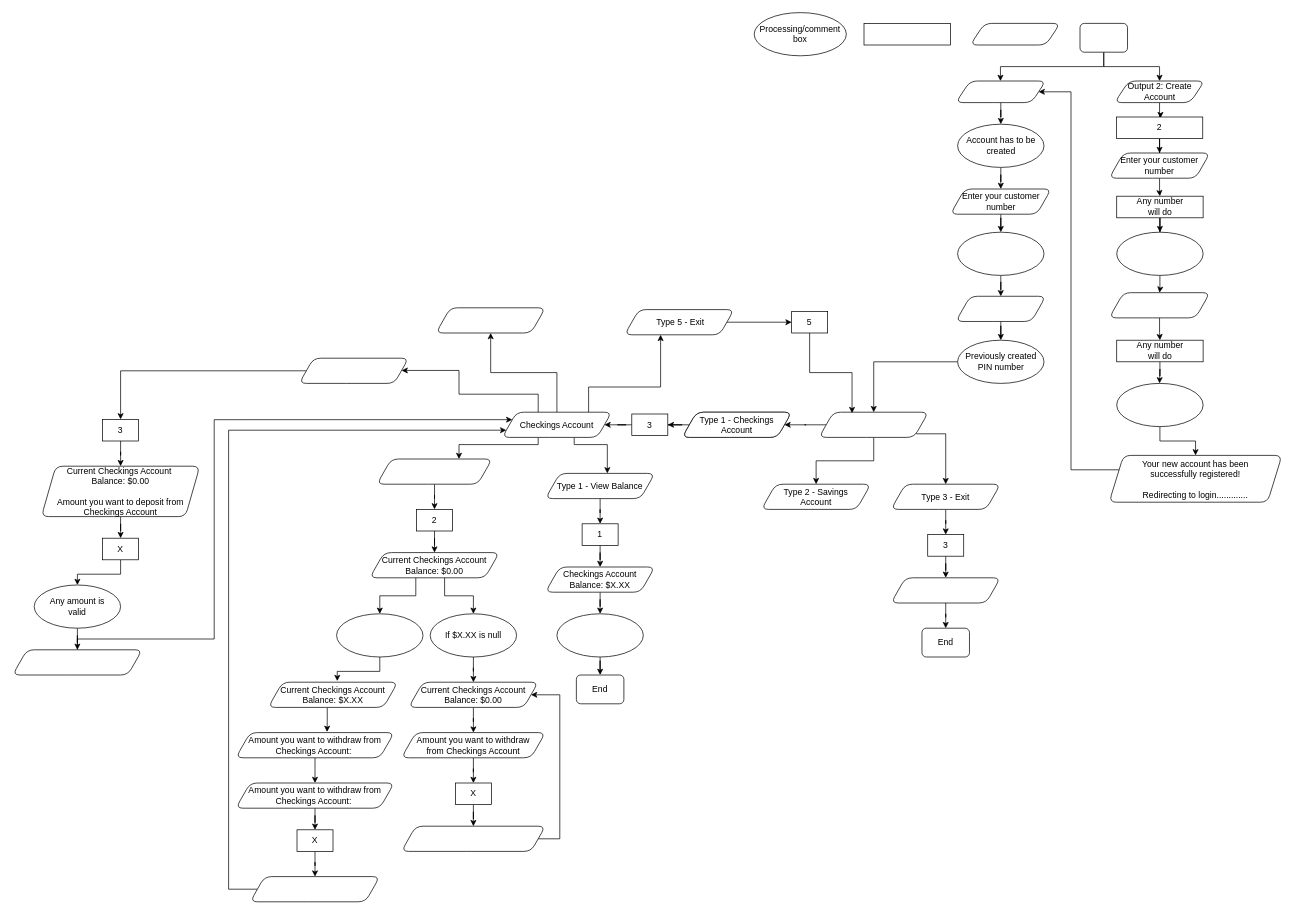
The diagram is 1295 pixels wide and 914 high, and some of its shapes have lost their labels. Here are the shapes that lost their labels. From the top down, the centre of each, then its label:
point (906, 34): Input box
point (1014, 34): Output box
point (1103, 37): Start
point (1000, 91): "Output 1: Login"
point (1000, 253): Previously created Account number
point (1159, 253): Input of data will create customer number
point (490, 320): Type 4 - Transfer Funds
point (1000, 308): Enter your PIN number
point (1159, 305): Enter PIN to be registered
point (353, 370): Type 3 - Deposit Funds
point (873, 424): Select the account you want to access
point (1159, 405): Input of data will create customer pin
point (434, 471): Type 2 - Withdraw Funds
point (945, 590): Thank You for using this ATM
point (379, 635): If $X.XX is not null
point (599, 635): $X.XX is money available
point (77, 662): Current Checkings Account Balance: X
point (473, 838): Balance Cannot be Negative
point (314, 889): Current Checkings Account Balance: $50.00
